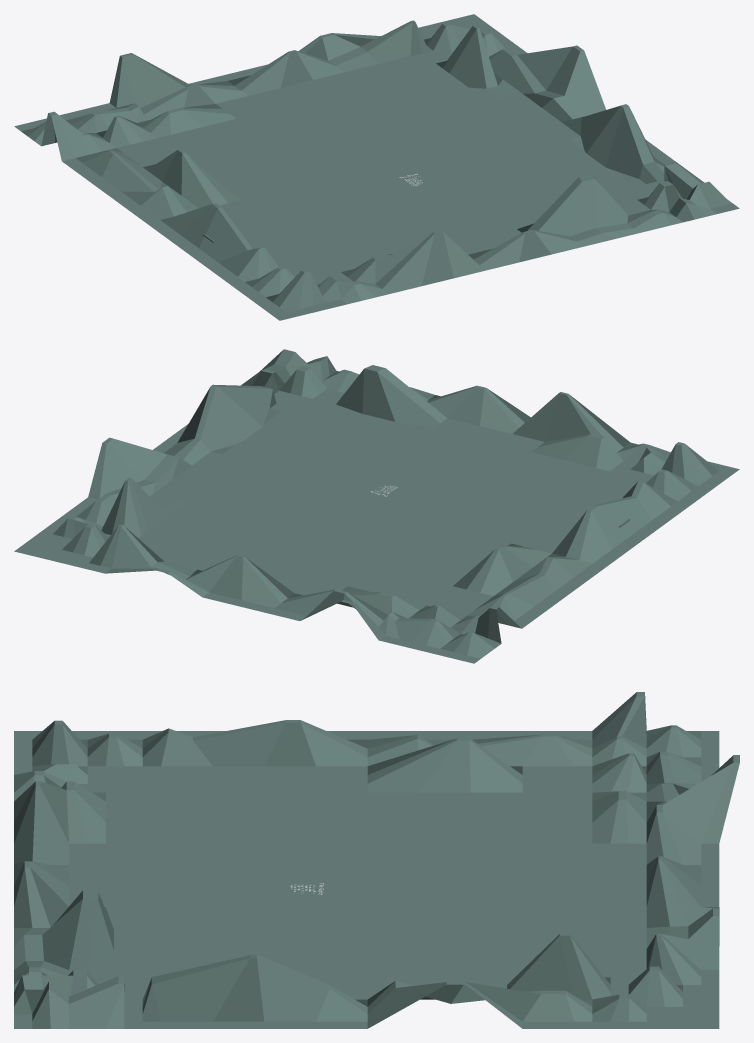
The model's file is mountains.gltf.
3 views of the same model, one above another, from view 1: azimuth 30°, elevation 25°; view 2: azimuth 150°, elevation 25°; view 3: azimuth 270°, elevation 25° (orthographic). The views are drawn at different scales.
Parts seen in each view (by area): view 1: Mountains; view 2: Mountains; view 3: Mountains.
Boxes of the visible parts, x1,y1,x2,y2 form: Mountains: [14, 14, 739, 320]; Mountains: [14, 349, 739, 663]; Mountains: [14, 692, 739, 1028].
Bounding box in the file's own units: 149 × 16.09 × 151.
